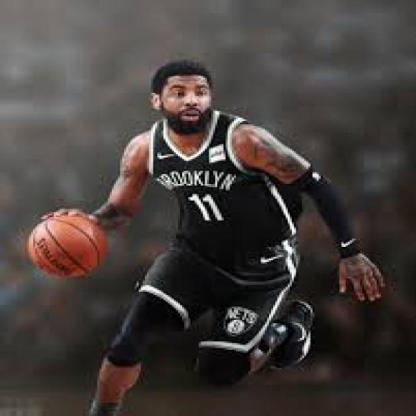basketball: (27, 217, 102, 278)
